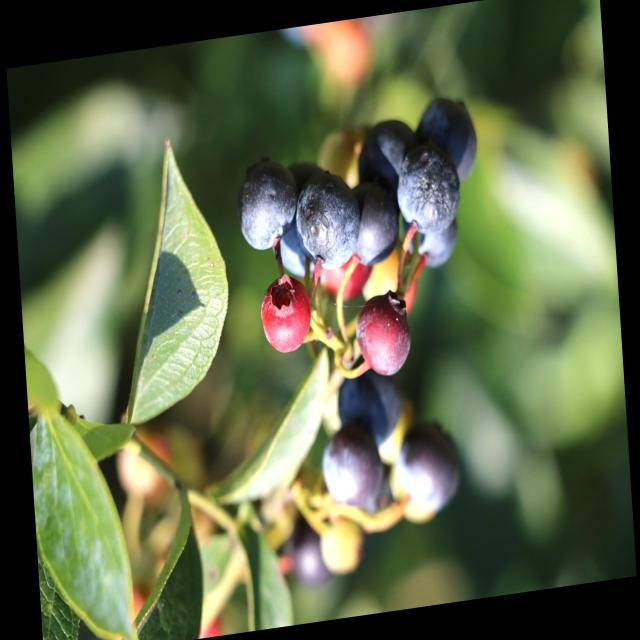blueberry: (261, 152, 337, 283), (289, 162, 369, 281), (388, 410, 467, 522), (389, 133, 465, 245), (409, 88, 484, 196), (230, 148, 302, 257), (332, 359, 408, 457), (314, 413, 387, 513), (350, 112, 422, 202), (343, 174, 406, 276), (276, 504, 338, 598), (399, 201, 465, 275)
blueberry-halfripe: (356, 287, 418, 383), (256, 273, 316, 357)
blueberry-unripe: (317, 521, 365, 587)
